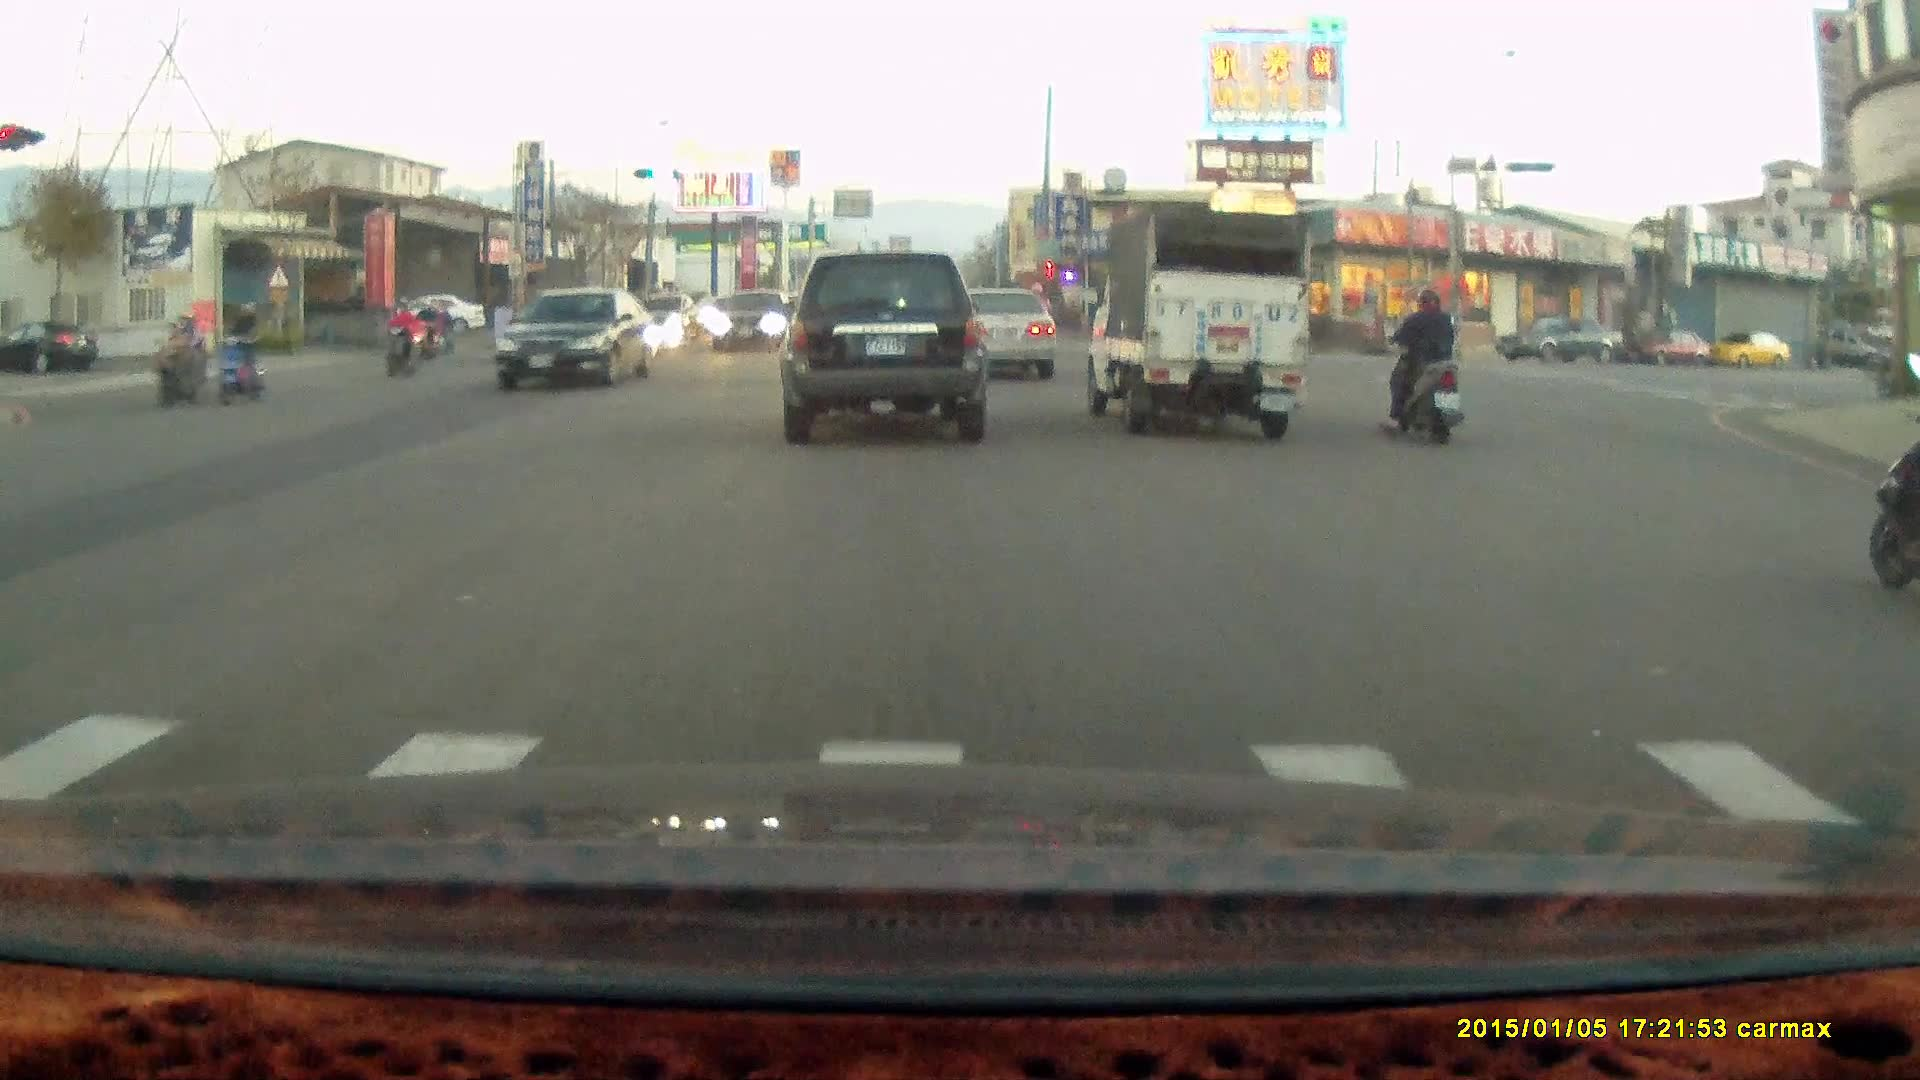rider: (1378, 282, 1464, 445), (1865, 401, 1920, 598), (147, 311, 213, 413), (208, 303, 267, 405), (379, 297, 426, 380)
vehicle: (1076, 205, 1310, 438), (777, 249, 987, 446), (499, 288, 665, 393), (938, 283, 1057, 380), (951, 286, 1062, 382), (1494, 315, 1629, 366), (707, 288, 799, 357), (396, 298, 488, 343), (1708, 329, 1794, 370), (1631, 331, 1714, 371)
